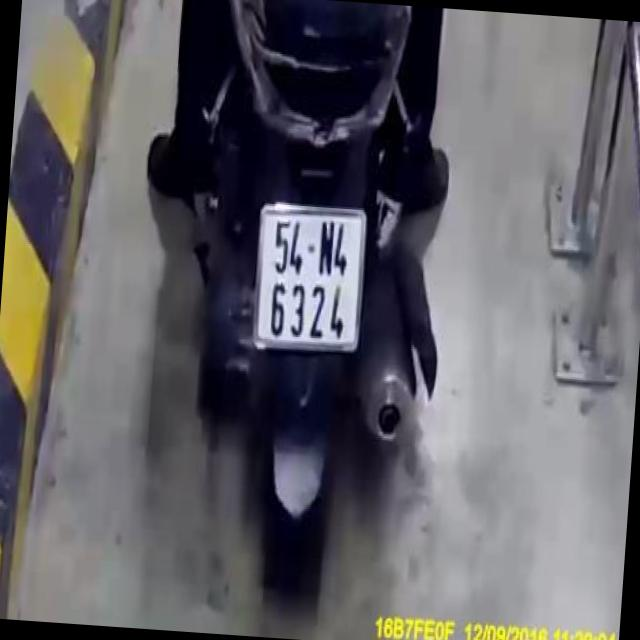LP: (251, 204, 368, 354)
